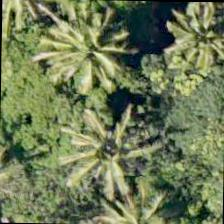Kelapa_Sawit: (64, 109, 156, 201), (158, 2, 223, 95), (1, 0, 57, 51)
